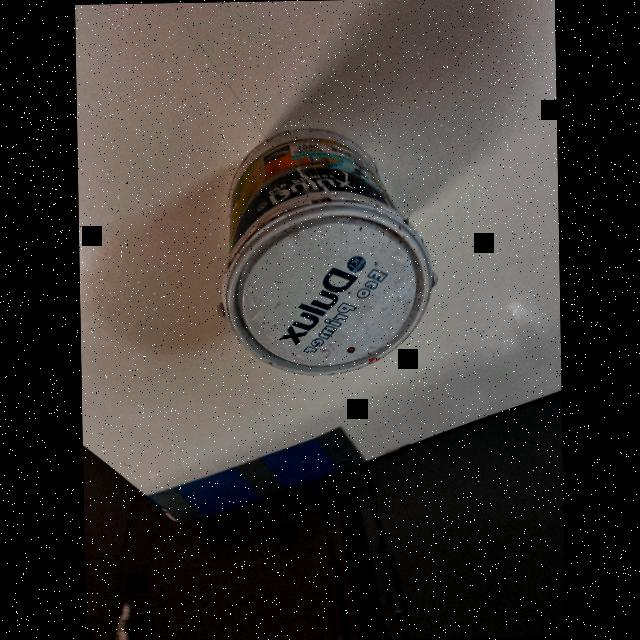paint_bucket: (205, 112, 443, 388)
